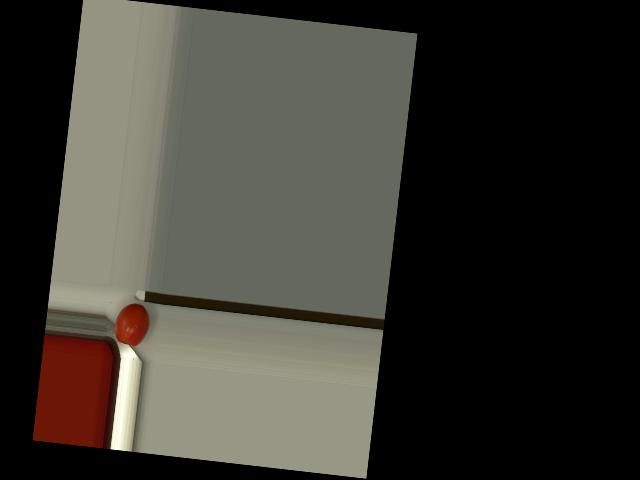tomato: (112, 301, 151, 347)
